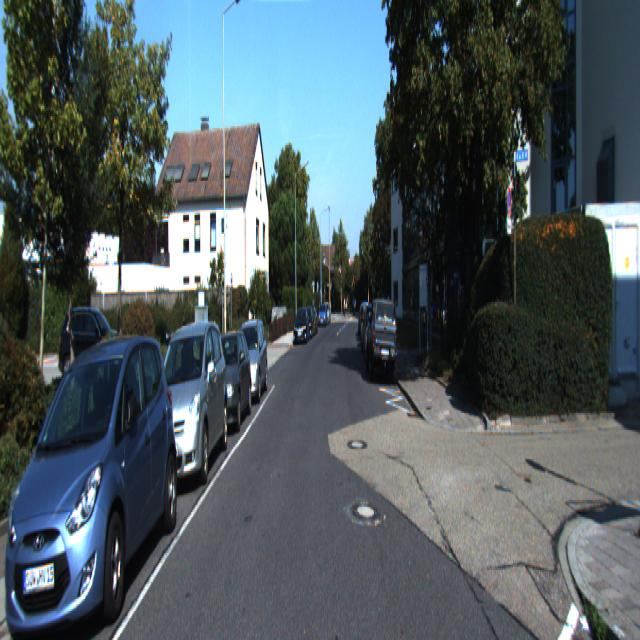Car: (0, 326, 183, 638), (141, 314, 229, 494), (199, 325, 253, 435), (229, 315, 269, 404), (366, 294, 398, 383), (293, 304, 309, 342), (318, 302, 328, 326)
DontCare: (357, 300, 372, 338), (342, 292, 348, 320)
